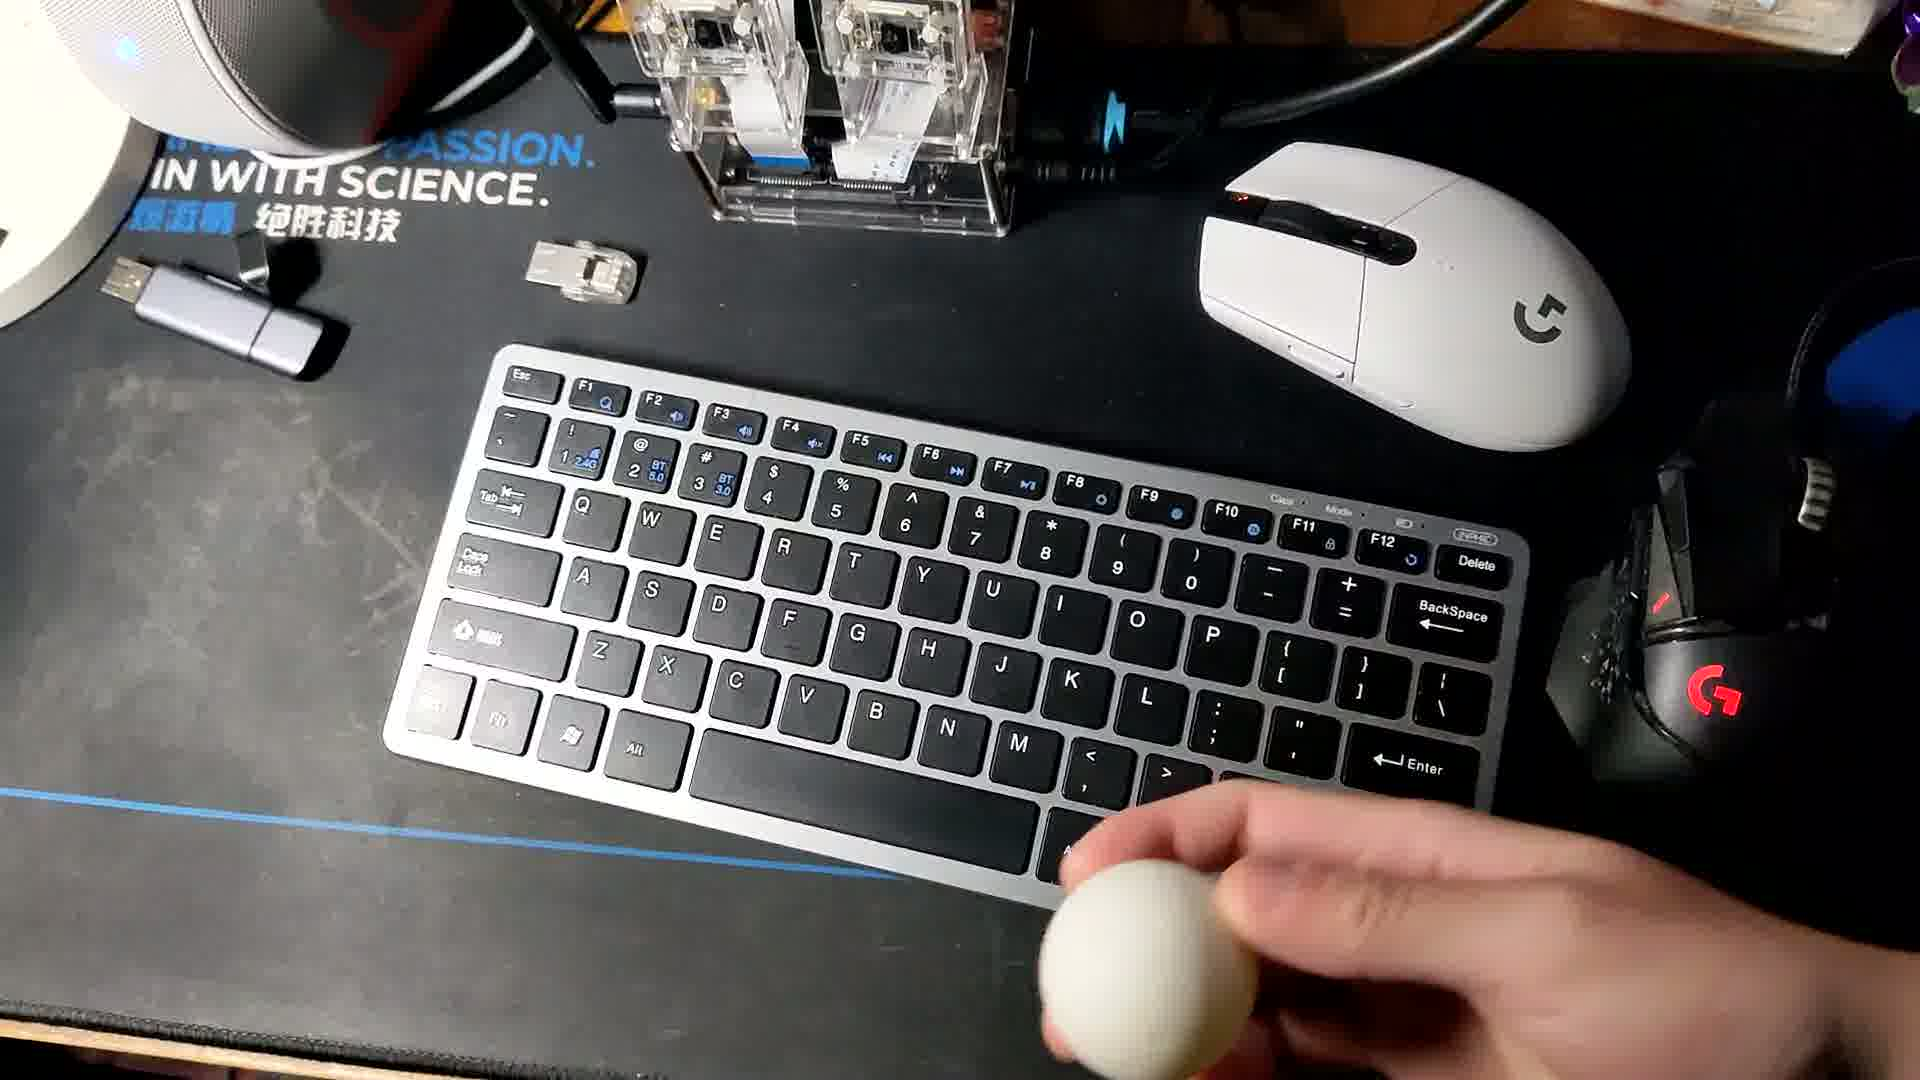Ball: (1027, 853, 1251, 1080)
